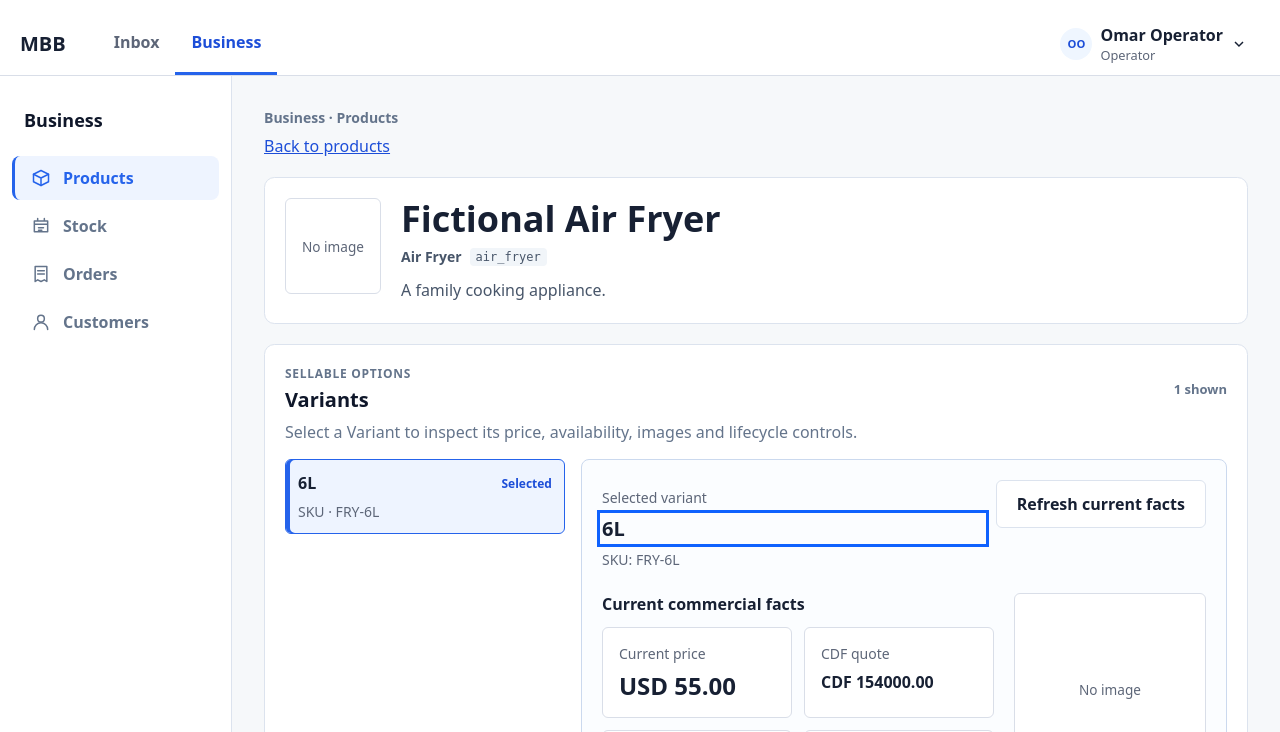
shared Business Products › shows unknown without inventing facts
Click the button with aria-label "6L · FRY-6L" at [527, 483], box [285, 459, 565, 534]
(page scrolled)
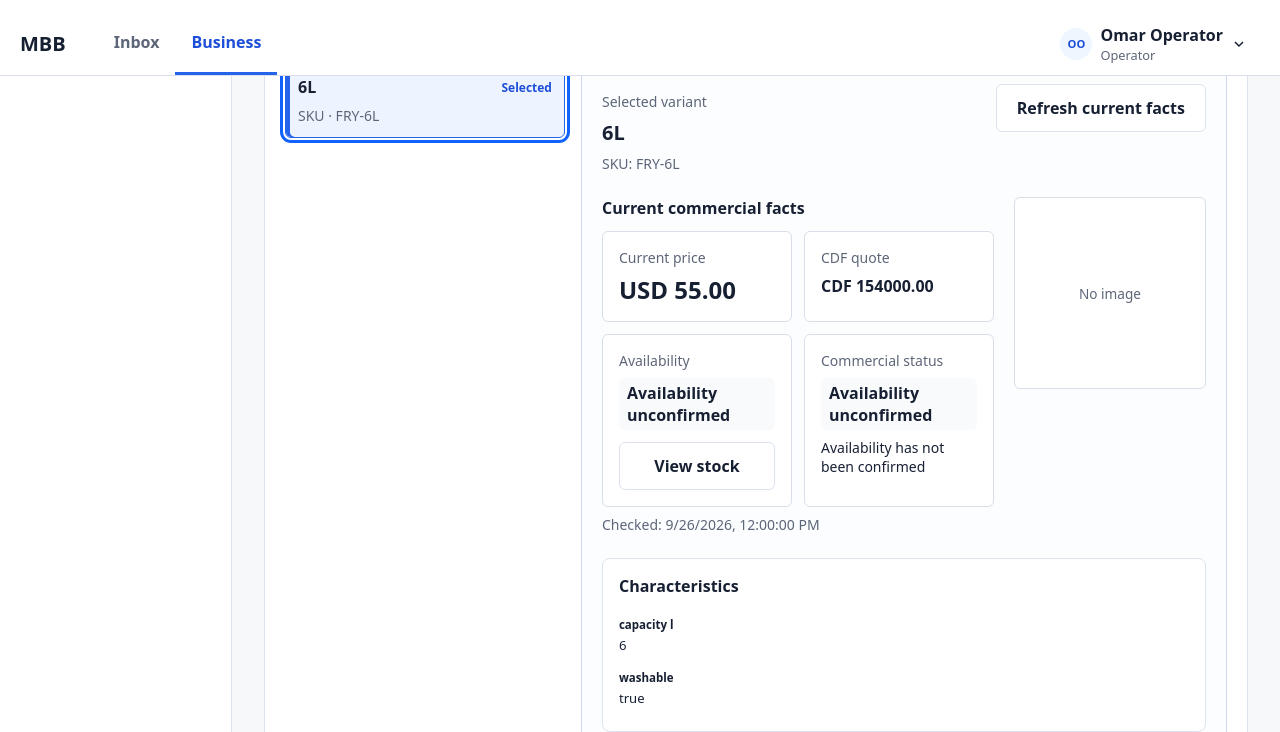
Expected: the heading "6L" is shown, [602, 119, 625, 146]
Now the 1st text "Availability unconfirmed" is shown, box [619, 378, 775, 430]
